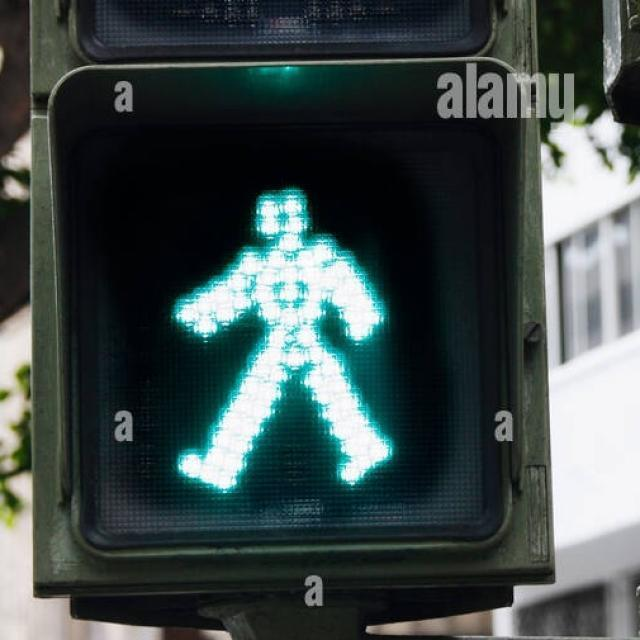geen-crossing: (162, 160, 402, 498)
